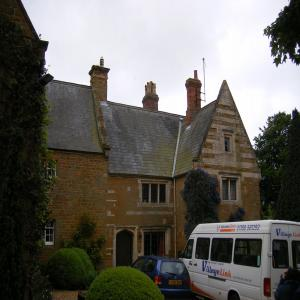Vehicle-registration-plate: (170, 281, 182, 285)
